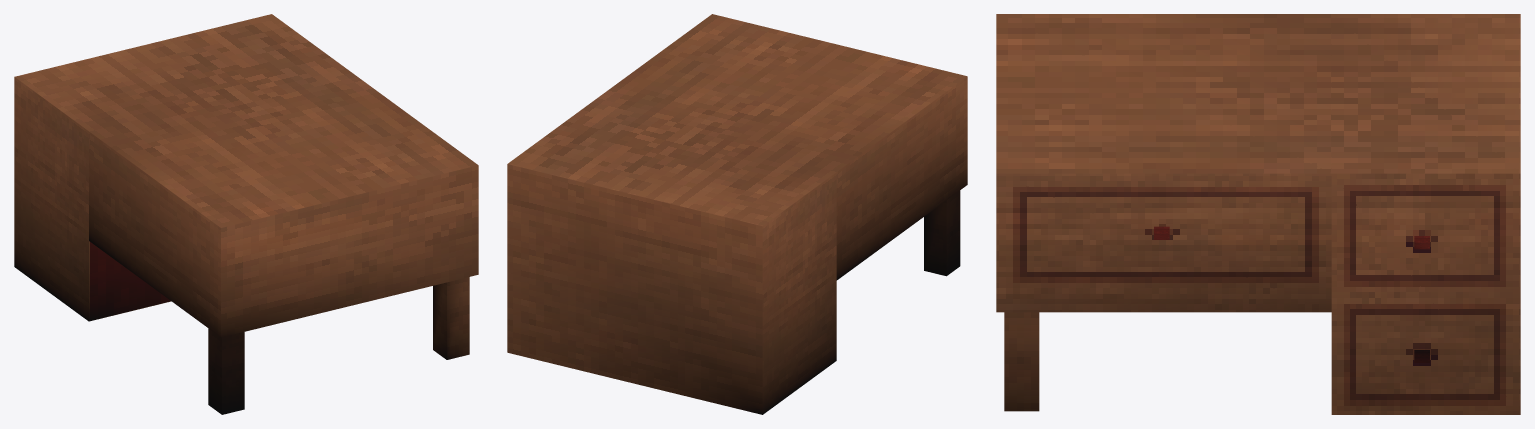
File: pcdesk.glb
3 views of the same model, side by side, from view 1: azimuth 30°, elevation 25°; view 2: azimuth 150°, elevation 25°; view 3: azimuth 270°, elevation 25° (orthographic). The views are drawn at different scales.
Parts seen in each view (by area): view 1: Cube; view 2: Cube; view 3: Cube.
Part boxes in pixels (x1,y1,x2,y2): Cube: (14,14,478,414); Cube: (507,14,967,414); Cube: (996,14,1520,414).
Bounding box in the file's own units: 0.98 × 0.6829 × 1.34.
Materials: 1 (1 with a texture image).
